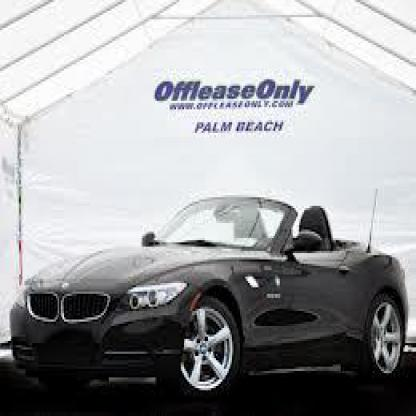Vehicle: (13, 195, 411, 405)
